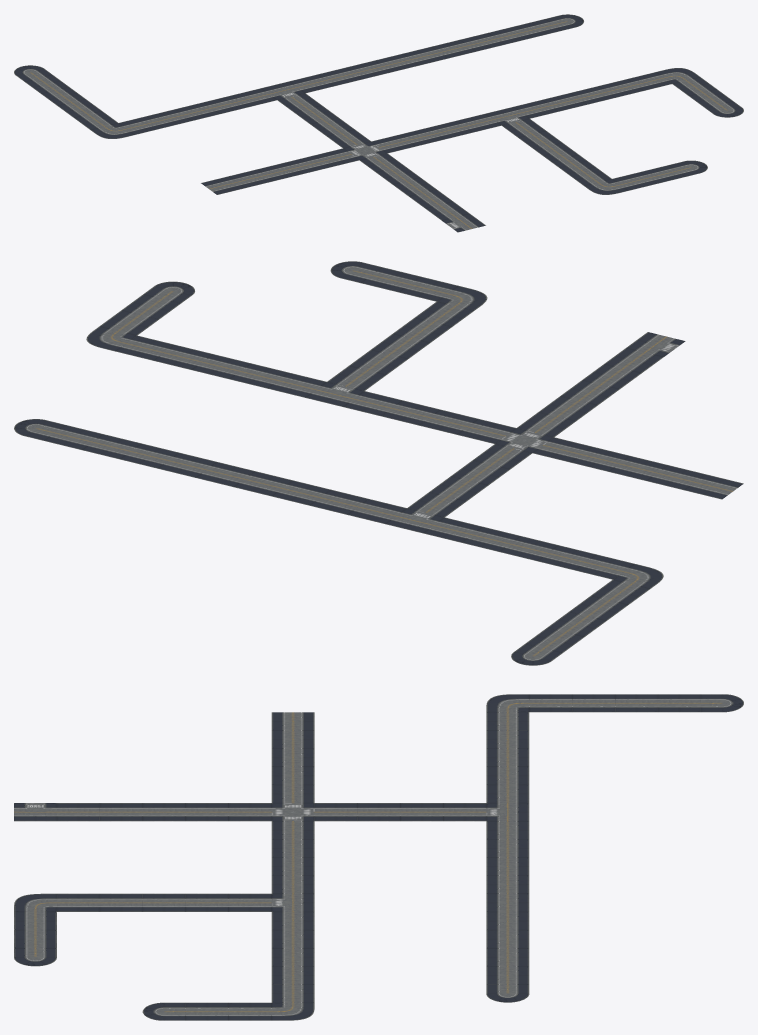
Rendered from m_idle_bg_road_a_07.fbx.
3 renders of one model, top to bottom at view 1: azimuth 30°, elevation 25°; view 2: azimuth 150°, elevation 25°; view 3: azimuth 270°, elevation 25°, orthographic. The views are drawn at different scales.
Parts seen in each view (by area): view 1: m_idle_bg_road_a_07; view 2: m_idle_bg_road_a_07; view 3: m_idle_bg_road_a_07.
Part boxes in pixels (<box>): m_idle_bg_road_a_07: <box>14,14,743,232</box>; m_idle_bg_road_a_07: <box>14,261,743,665</box>; m_idle_bg_road_a_07: <box>14,694,743,1020</box>.
Size of the model in its own units: 450 by 8.49e-05 by 425.
